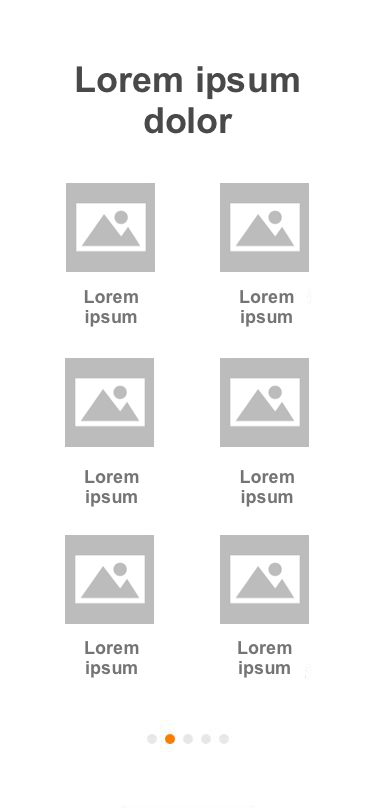Image: (66, 183, 156, 273), (220, 183, 310, 273), (220, 358, 310, 448), (65, 535, 155, 625), (220, 535, 310, 625), (66, 358, 155, 448)
PageIndicator: (146, 733, 231, 744)
Text: (76, 66, 300, 136), (84, 469, 140, 508), (240, 469, 295, 508), (238, 640, 293, 679), (84, 290, 140, 328), (239, 290, 294, 328), (85, 641, 140, 679)
